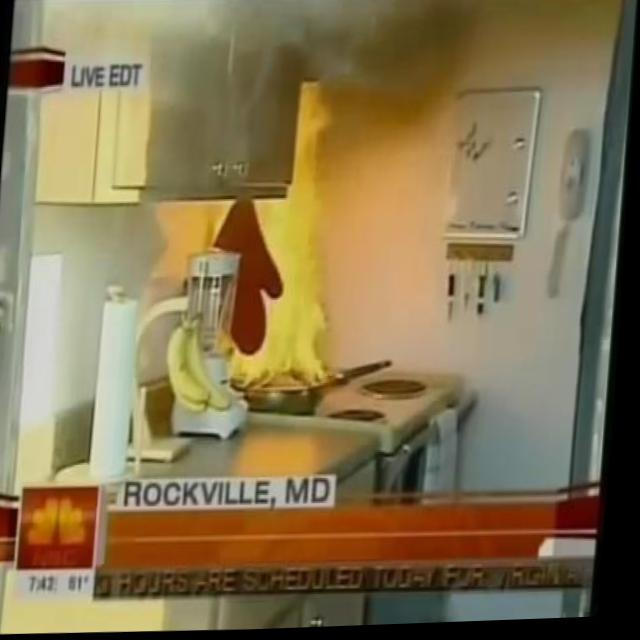fire: (238, 181, 345, 395)
